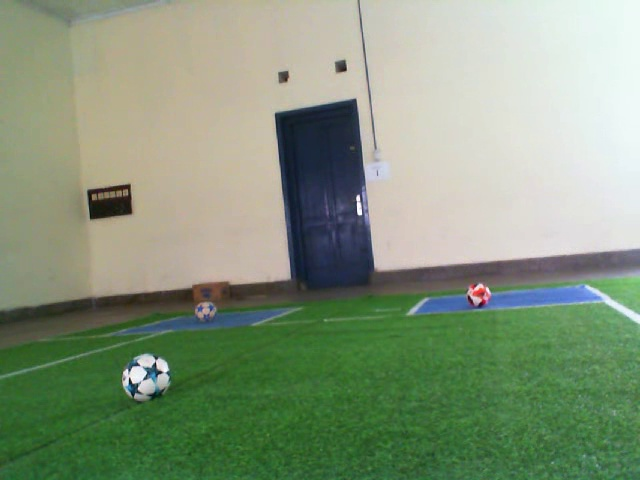ball: (120, 350, 173, 402), (465, 280, 493, 308), (192, 299, 220, 326)
